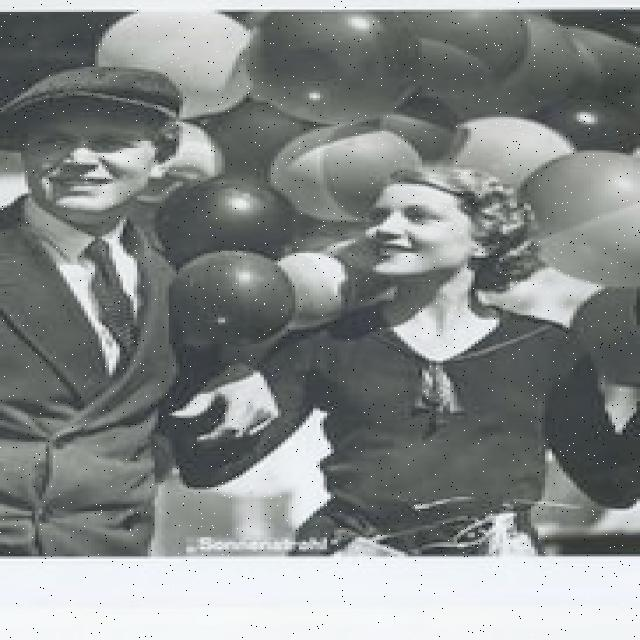picture: (6, 12, 640, 557)
